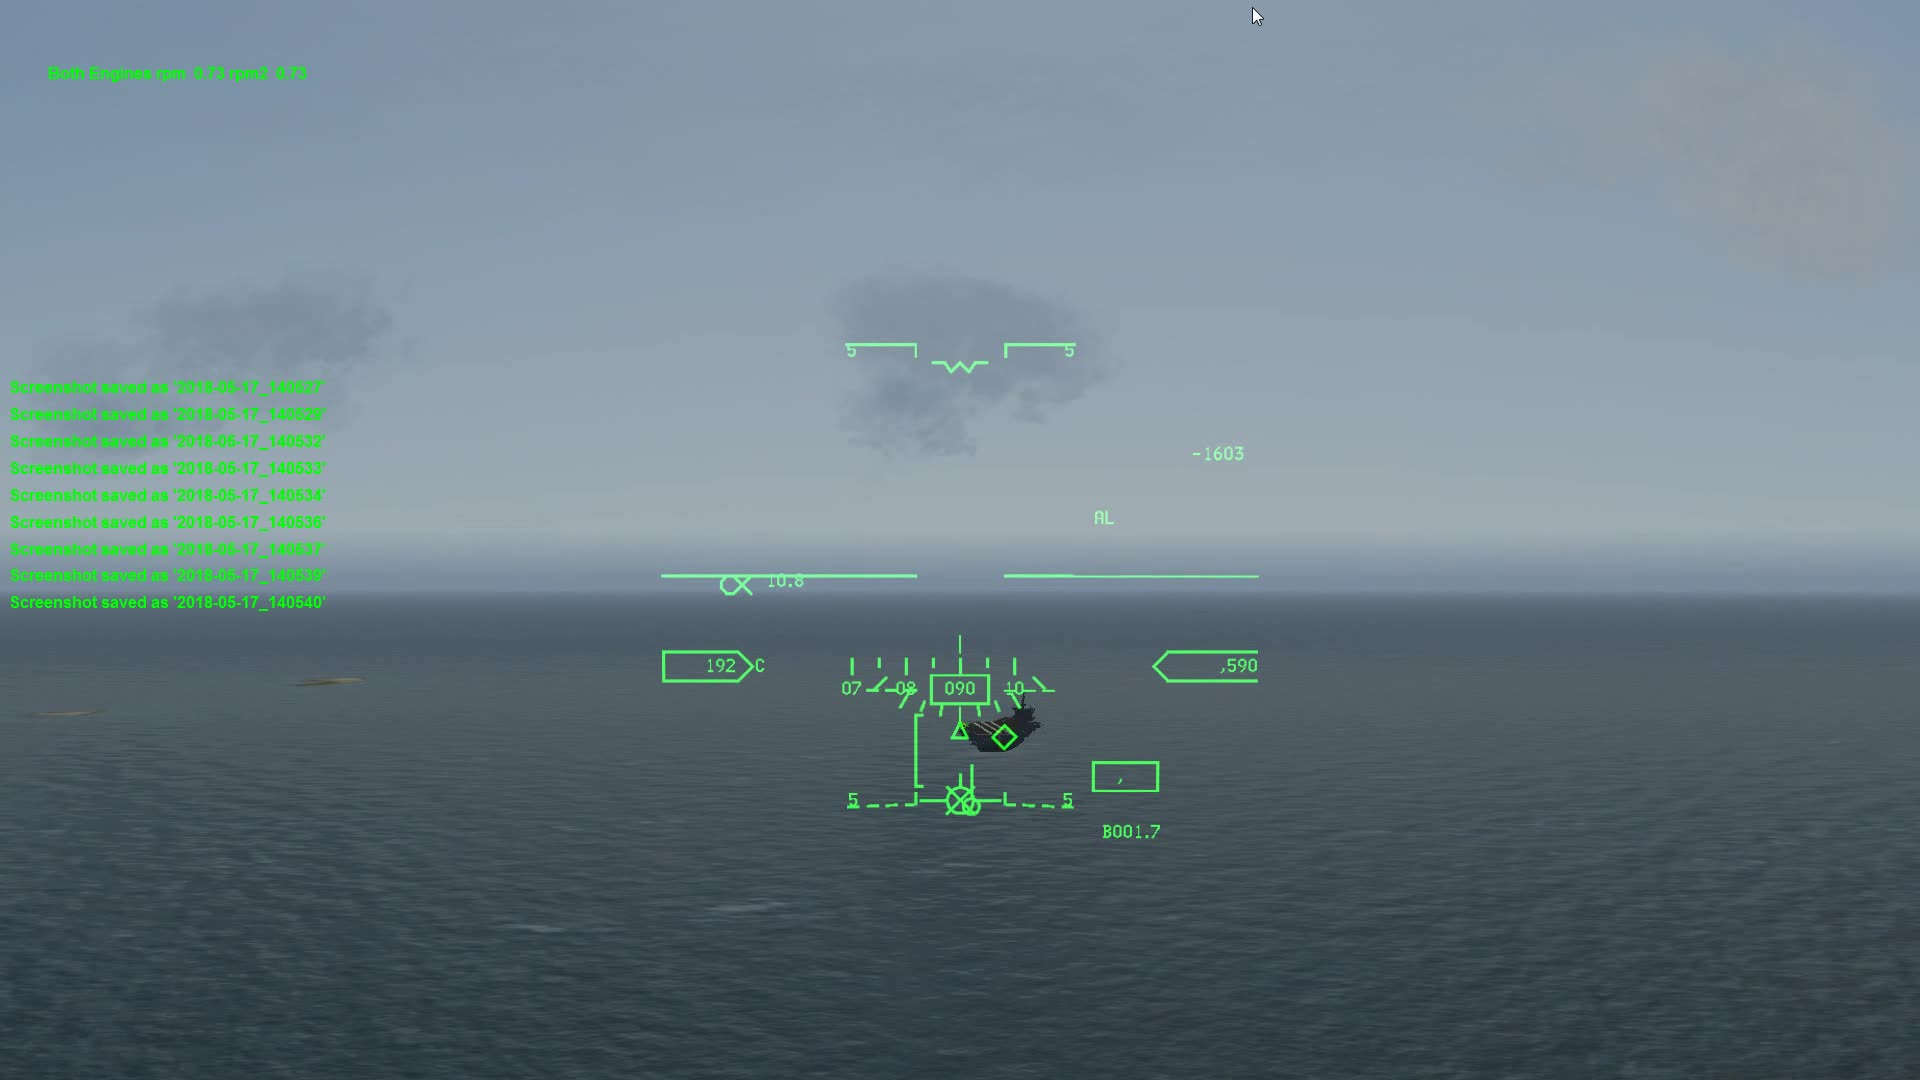speed vector: (913, 761, 1005, 822)
